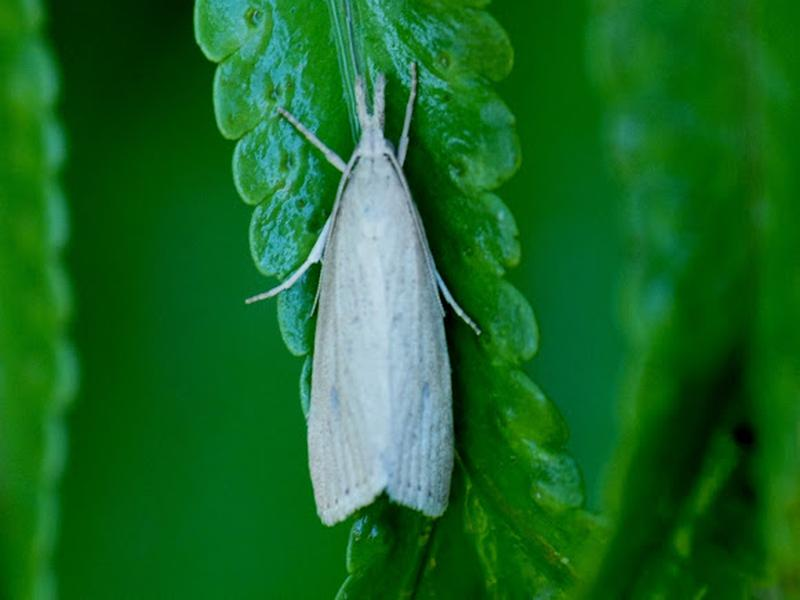Paddy_stemborer: (297, 78, 471, 521)
